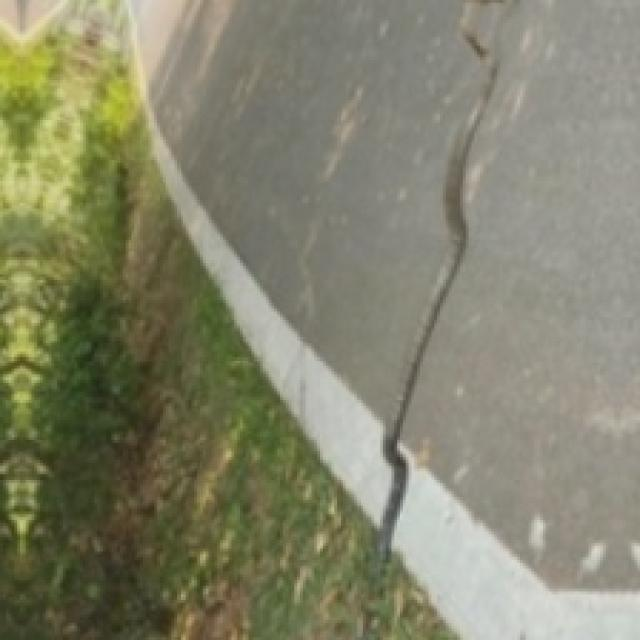king cobra: (403, 0, 637, 586), (377, 0, 514, 557)
